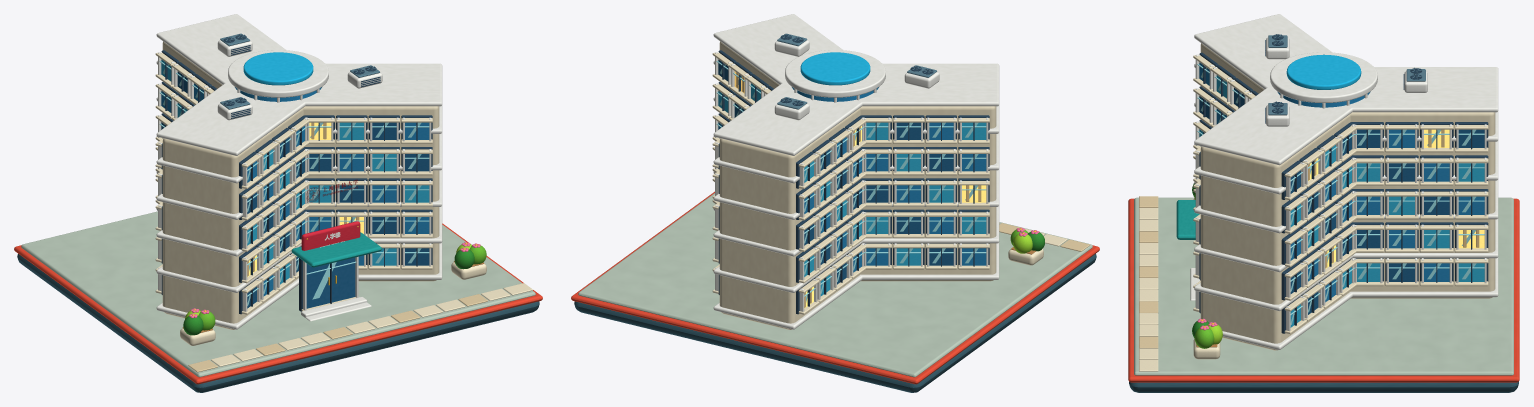
Rendered from 14_y_building.glb.
3 views of the same model, side by side, from view 1: azimuth 30°, elevation 25°; view 2: azimuth 150°, elevation 25°; view 3: azimuth 270°, elevation 25° (orthographic). The views are drawn at different scales.
Visible parts, largest first — view 1: 14_y_building_Architecture, 14_y_building_Display_Base, 14_y_building_Landscaping, 14_y_building_Signage; view 2: 14_y_building_Architecture, 14_y_building_Display_Base, 14_y_building_Landscaping; view 3: 14_y_building_Architecture, 14_y_building_Display_Base, 14_y_building_Landscaping.
Part boxes in pixels (left/top/right/bottom): 14_y_building_Architecture: left=155, top=14, right=442, bottom=329; 14_y_building_Display_Base: left=14, top=211, right=542, bottom=392; 14_y_building_Landscaping: left=180, top=242, right=486, bottom=345; 14_y_building_Signage: left=301, top=221, right=360, bottom=250; 14_y_building_Architecture: left=712, top=14, right=999, bottom=329; 14_y_building_Display_Base: left=571, top=191, right=1099, bottom=392; 14_y_building_Landscaping: left=1008, top=227, right=1044, bottom=265; 14_y_building_Architecture: left=1176, top=14, right=1498, bottom=350; 14_y_building_Display_Base: left=1128, top=196, right=1519, bottom=392; 14_y_building_Landscaping: left=1192, top=183, right=1222, bottom=359.
Size of the model in its own units: 12.03 by 7.35 by 11.03.
Materials: 5 (5 with a texture image).
